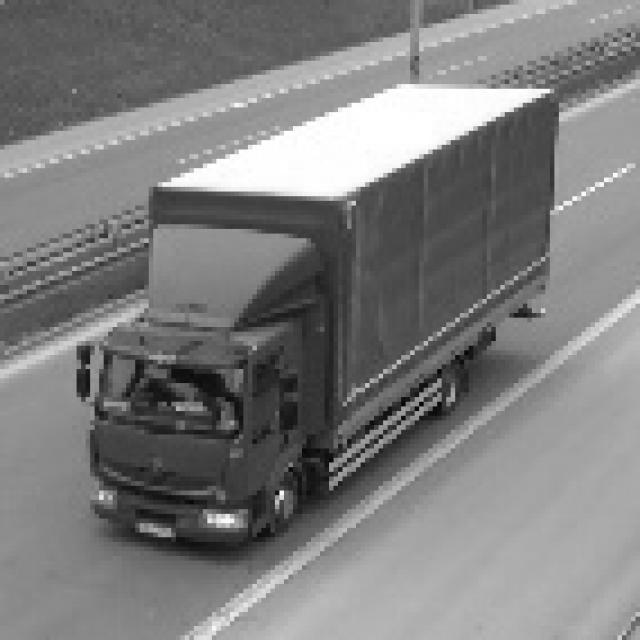truck: (61, 282, 334, 563)
